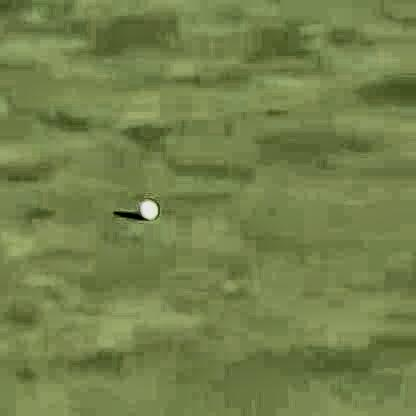golfball: (134, 198, 156, 217)
